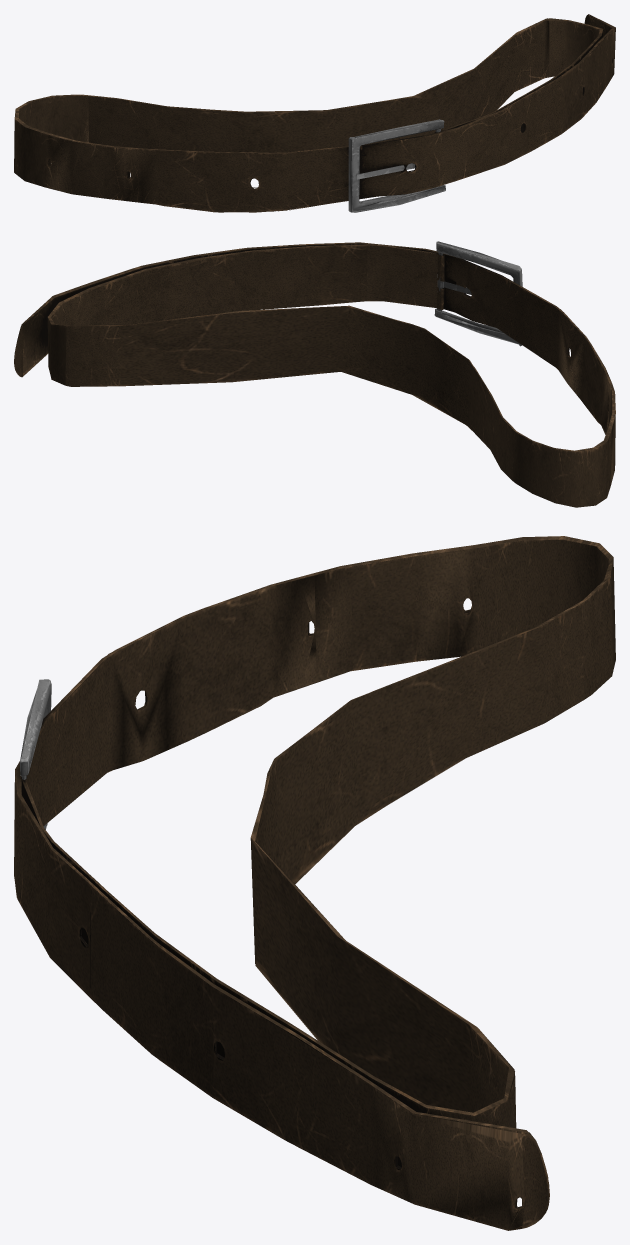
Rendered from belt.fbx.
3 views of the same model, one above another, from view 1: azimuth 30°, elevation 25°; view 2: azimuth 150°, elevation 25°; view 3: azimuth 270°, elevation 25° (orthographic). The views are drawn at different scales.
Visible parts, largest first — view 1: Object_4; view 2: Object_4; view 3: Object_4.
Part boxes in pixels (<box>): Object_4: <box>14,14,615,212</box>; Object_4: <box>14,241,615,507</box>; Object_4: <box>14,536,615,1230</box>.
Size of the model in its own units: 94.75 by 204 by 35.93.
